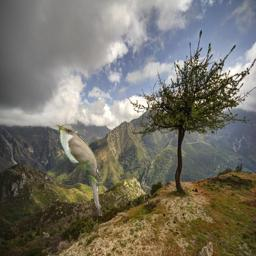Cuckoo: (53, 122, 104, 217)
